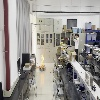fire: (41, 53, 44, 68)
